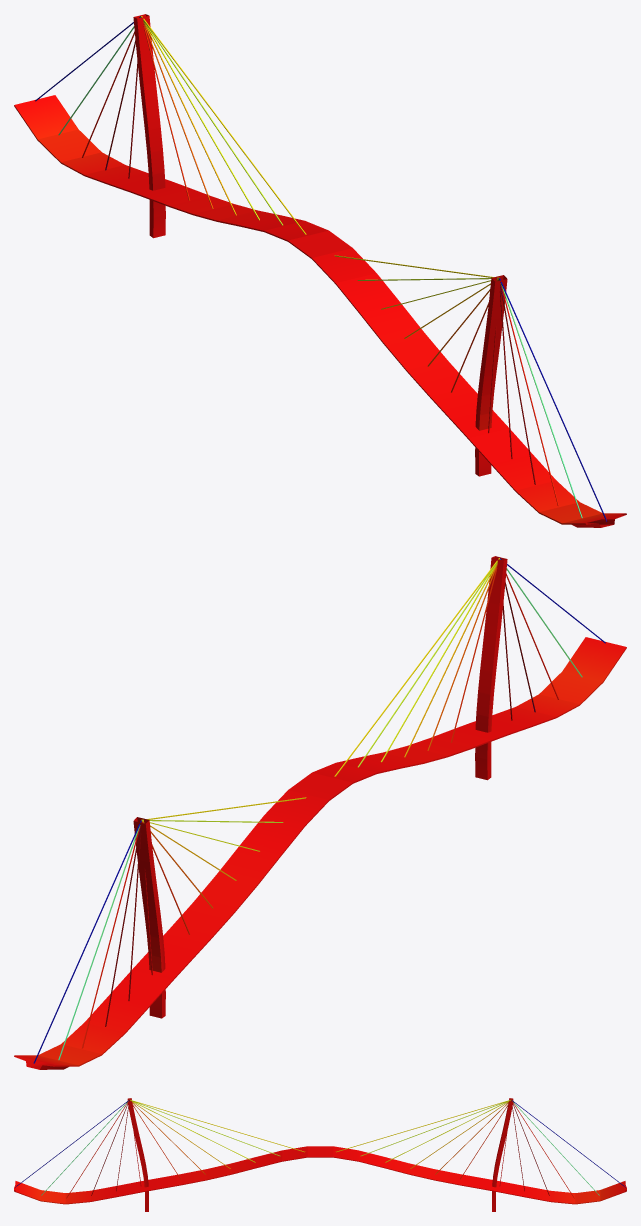
Rendered from Mode5.glb.
3 views of the same model, one above another, from view 1: azimuth 30°, elevation 25°; view 2: azimuth 150°, elevation 25°; view 3: azimuth 270°, elevation 25° (orthographic). The views are drawn at different scales.
Visible parts, largest first — view 1: beam1_hull_lc101_mode5_ampFactor100; view 2: beam1_hull_lc101_mode5_ampFactor100; view 3: beam1_hull_lc101_mode5_ampFactor100.
Part boxes in pixels (x1=…): beam1_hull_lc101_mode5_ampFactor100: x1=14, y1=14, x2=626, y2=527; beam1_hull_lc101_mode5_ampFactor100: x1=14, y1=556, x2=626, y2=1069; beam1_hull_lc101_mode5_ampFactor100: x1=14, y1=1098, x2=626, y2=1211.
Bounding box in the file's own units: 5 × 24.22 × 121.
Materials: 1 (1 with a texture image).
